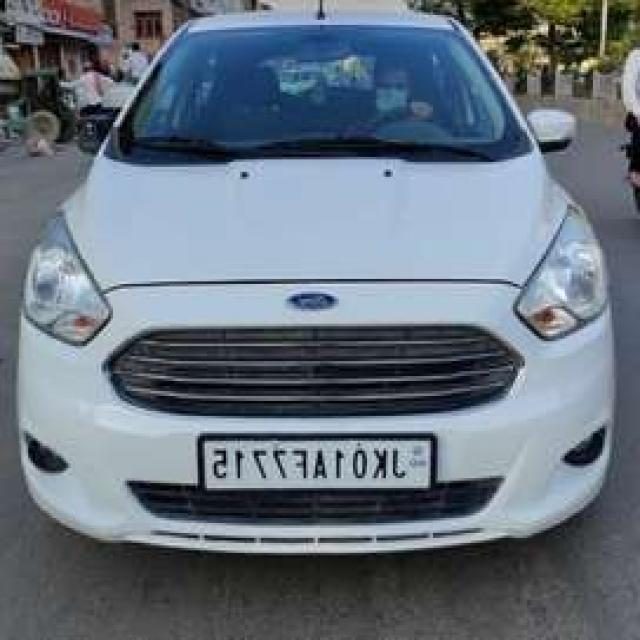license_plate: (193, 427, 440, 501)
